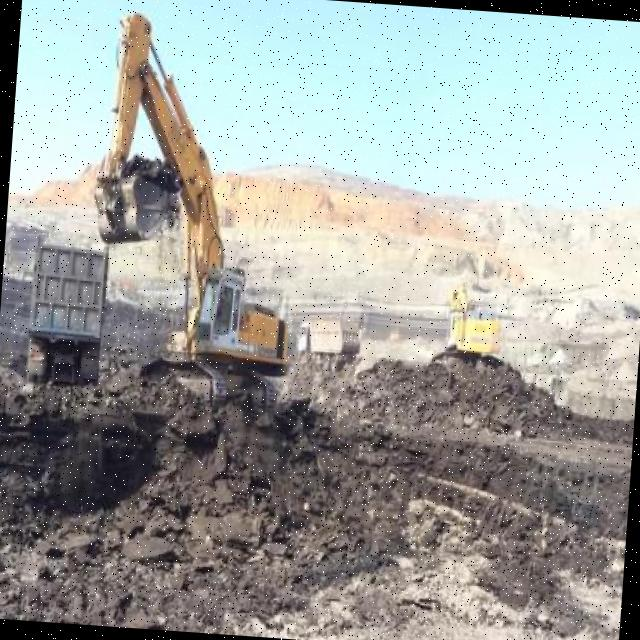Dump Truck: (27, 234, 108, 391), (294, 314, 360, 368)
Excavator: (85, 11, 312, 438), (438, 282, 502, 366)
